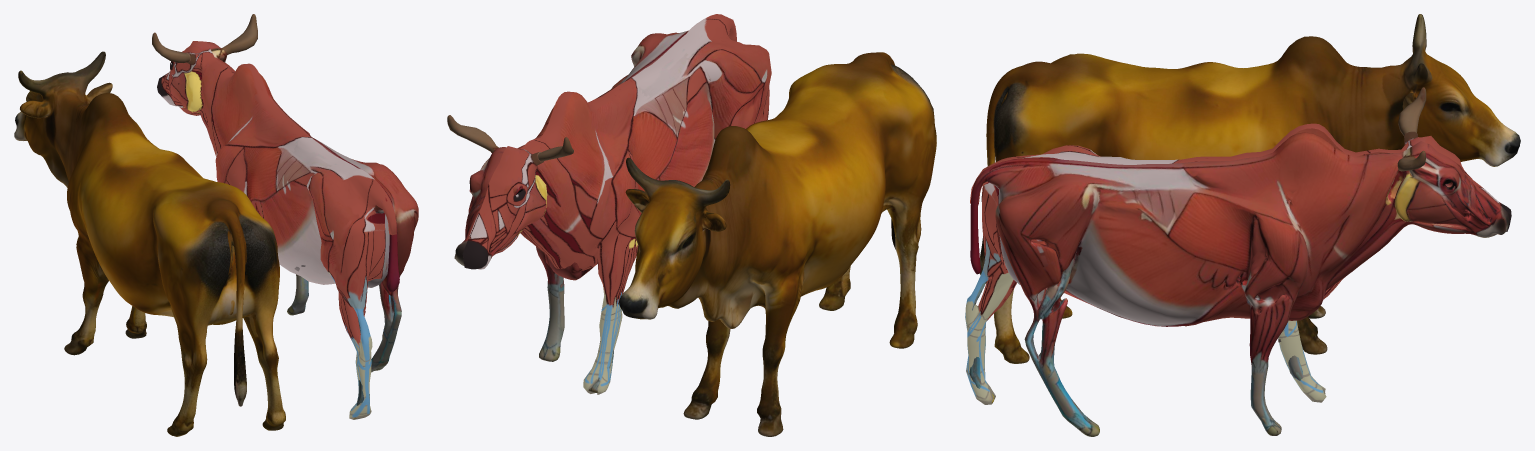
File: bovino.glb
3 views of the same model, side by side, from view 1: azimuth 30°, elevation 25°; view 2: azimuth 150°, elevation 25°; view 3: azimuth 270°, elevation 25° (orthographic). The views are drawn at different scales.
Parts seen in each view (by area): view 1: tripo_node_1c9cdd92-bf6b-403e-ab20-4850036ae08f, Retopo, tripo_node_374e0524-d4e5-4385-b0db-dcee3eb8508f; view 2: tripo_node_1c9cdd92-bf6b-403e-ab20-4850036ae08f, Retopo, tripo_node_374e0524-d4e5-4385-b0db-dcee3eb8508f; view 3: tripo_node_374e0524-d4e5-4385-b0db-dcee3eb8508f, tripo_node_1c9cdd92-bf6b-403e-ab20-4850036ae08f, Retopo.
Boxes of the visible parts, box(x1,y1,x2,y2) form: tripo_node_1c9cdd92-bf6b-403e-ab20-4850036ae08f: box(14, 51, 285, 436); Retopo: box(157, 41, 396, 419); tripo_node_374e0524-d4e5-4385-b0db-dcee3eb8508f: box(152, 14, 418, 418); tripo_node_1c9cdd92-bf6b-403e-ab20-4850036ae08f: box(619, 52, 936, 436); Retopo: box(462, 14, 771, 394); tripo_node_374e0524-d4e5-4385-b0db-dcee3eb8508f: box(447, 17, 730, 392); tripo_node_374e0524-d4e5-4385-b0db-dcee3eb8508f: box(969, 87, 1509, 436); tripo_node_1c9cdd92-bf6b-403e-ab20-4850036ae08f: box(980, 14, 1520, 363); Retopo: box(965, 123, 1511, 404).
Bounding box in the file's own units: 0.644 × 0.6165 × 1.02.
3 materials, 3 textured.
